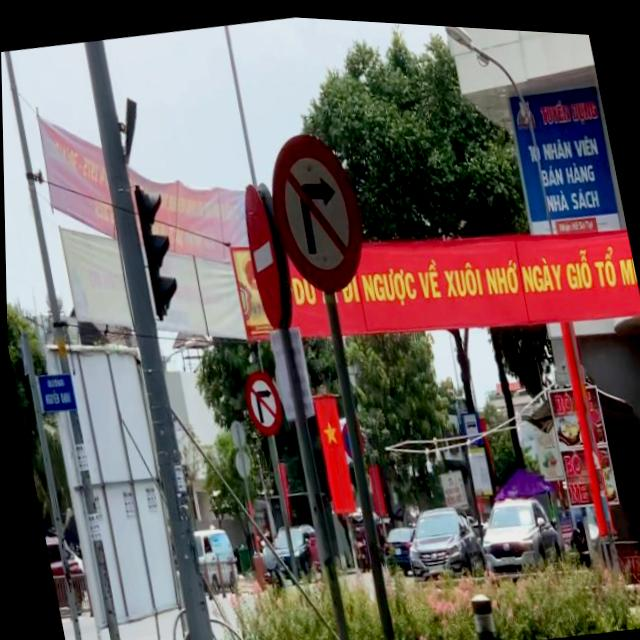Cam di nguoc chieu: (233, 175, 290, 334)
Cam re phai: (258, 118, 376, 300), (240, 362, 282, 435)
